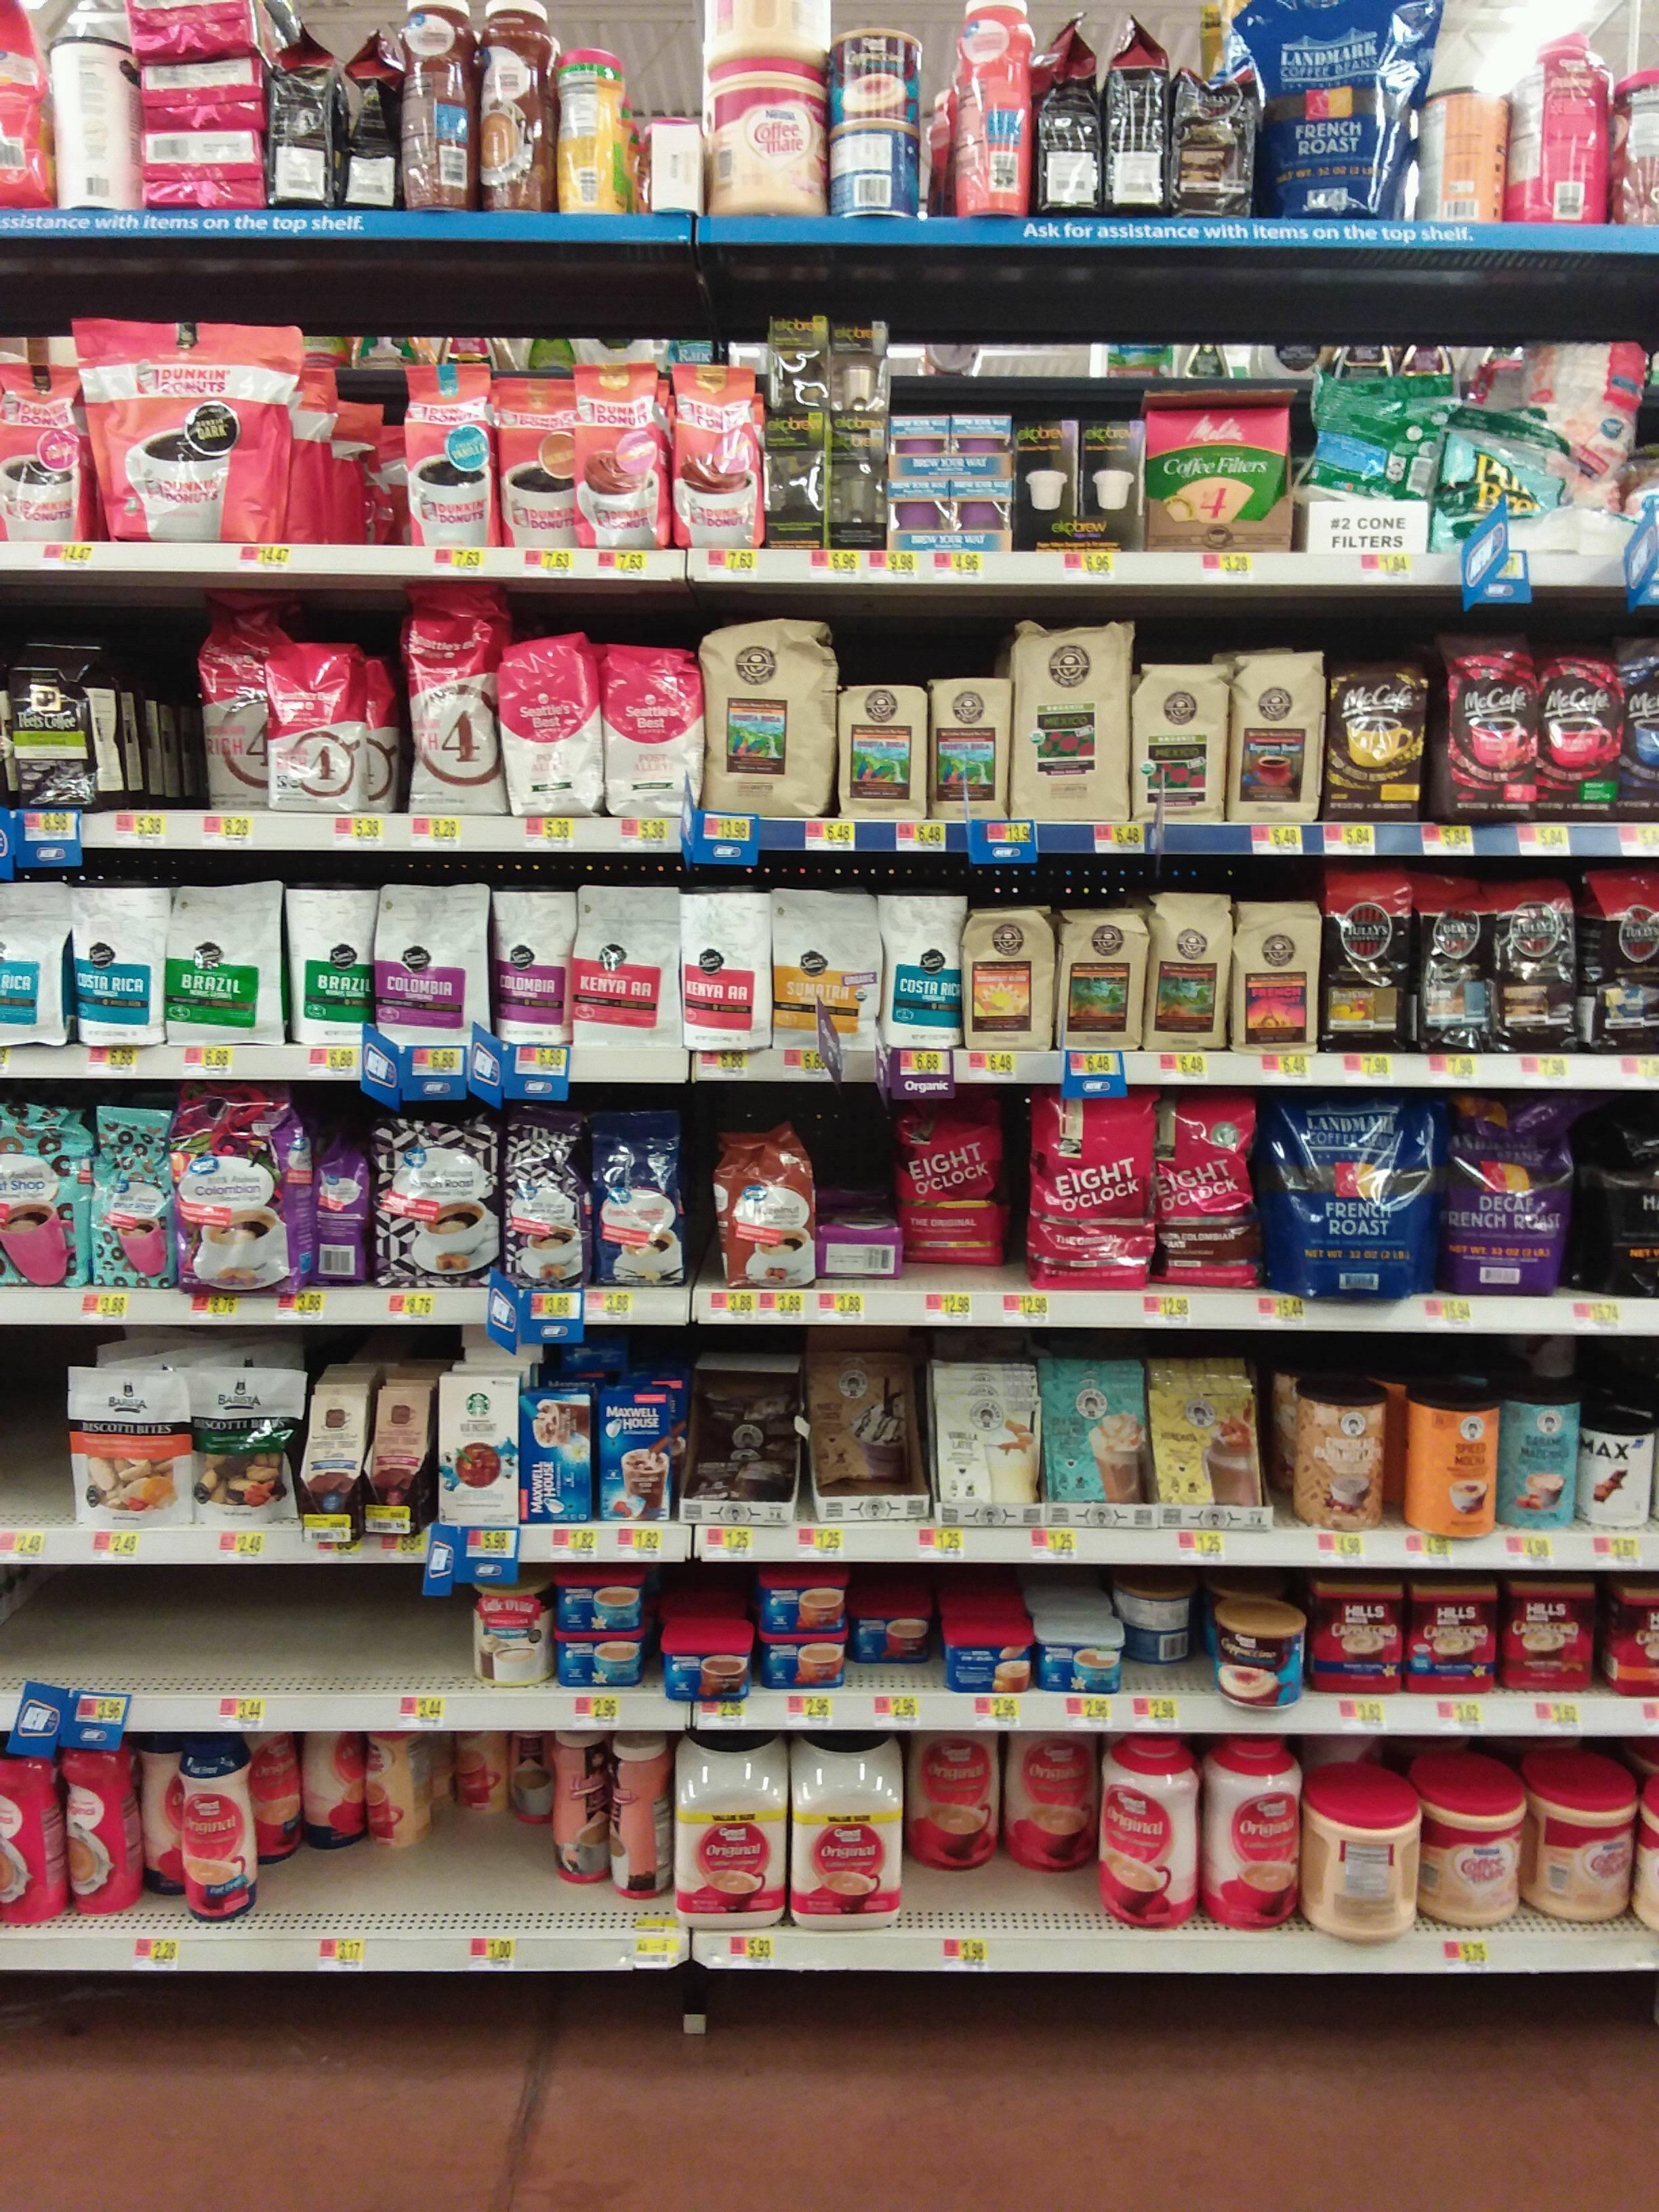misalignment: (1297, 1773, 1413, 1956), (1310, 343, 1438, 510), (1211, 1601, 1316, 1716), (338, 37, 403, 216), (652, 1622, 762, 1707), (314, 1130, 375, 1280), (823, 1204, 908, 1280), (647, 110, 704, 218)
